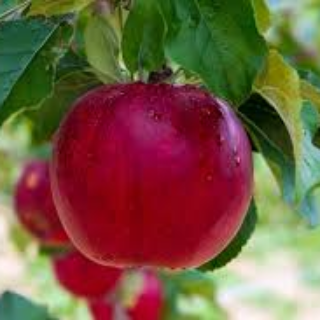tao: (44, 69, 263, 277)
